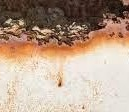Corrosion: (1, 1, 129, 59), (57, 63, 64, 88)
